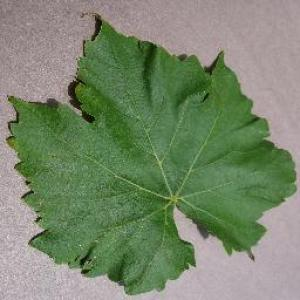Folha: (4, 11, 298, 296)
